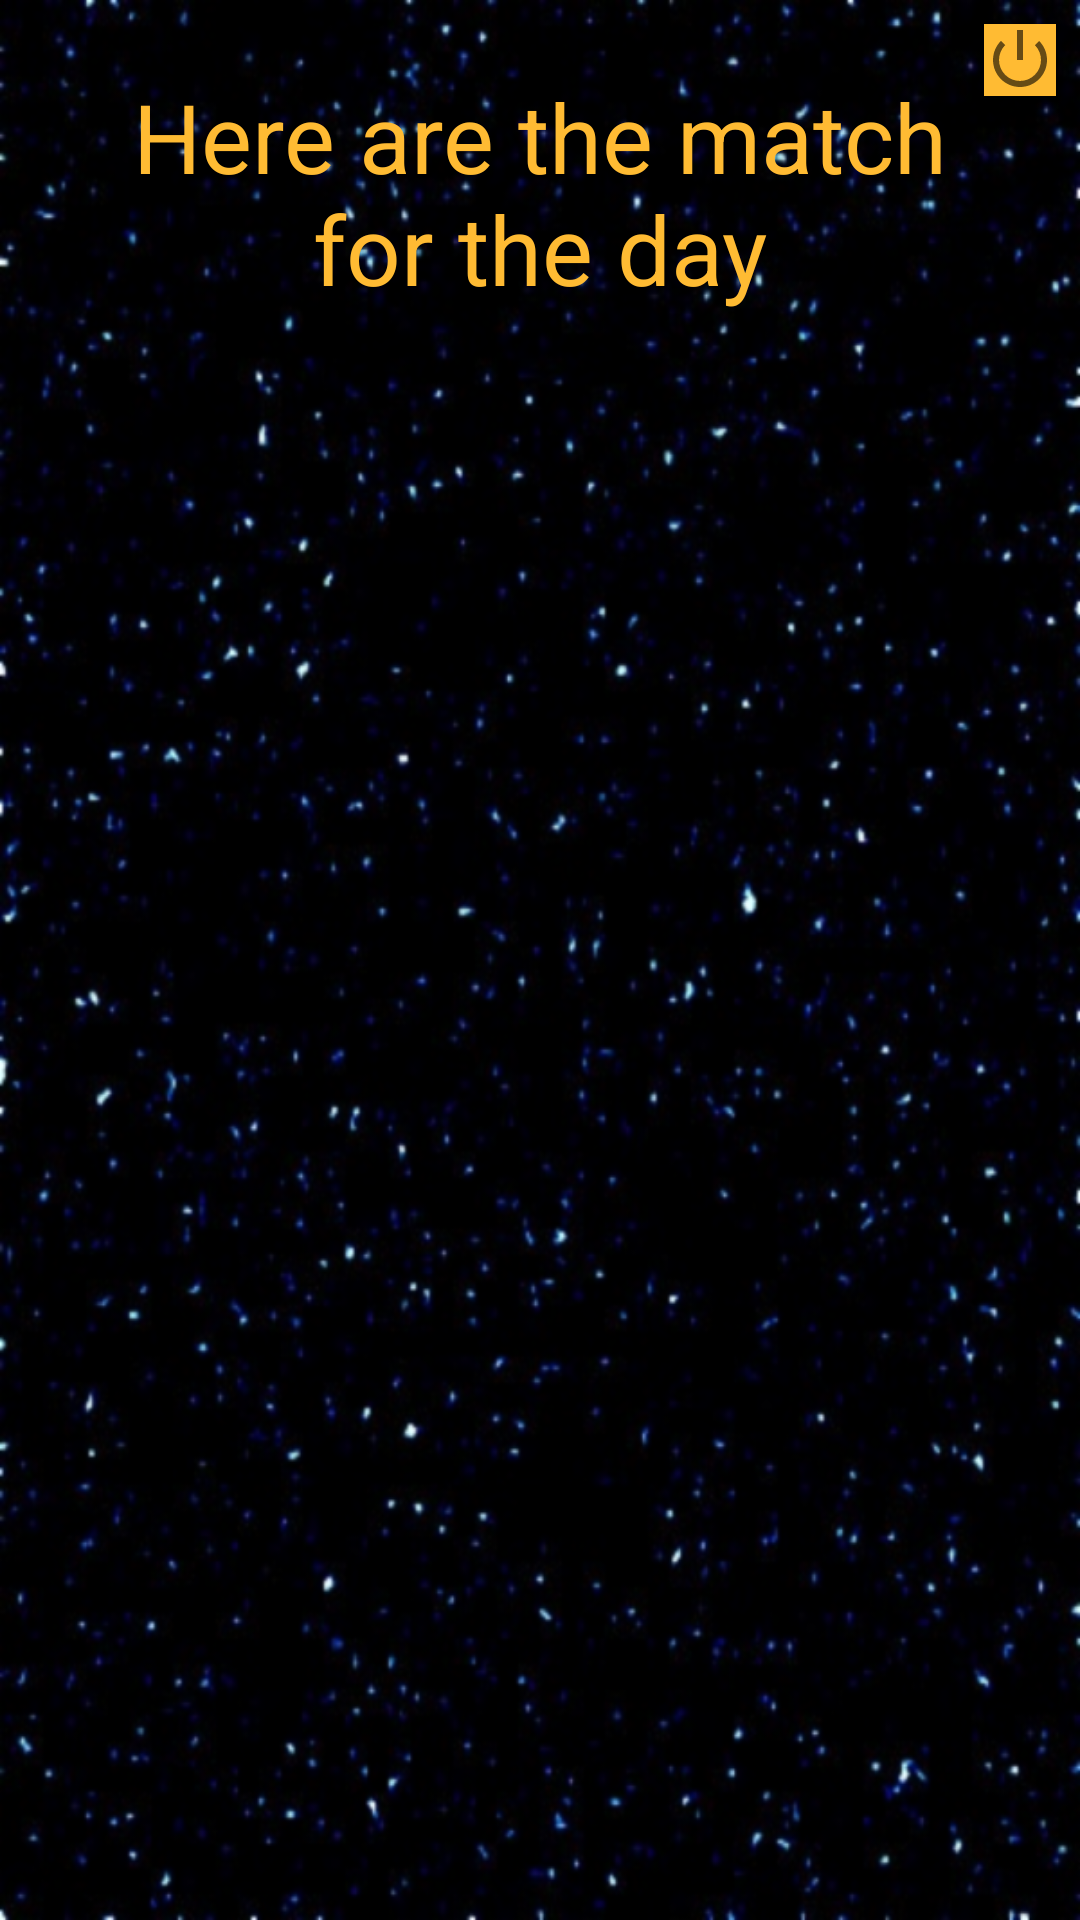

Locate icon controls on the screen. Image size 1080*1920, boxes as [x1=x1, y1=y1, x2=x2, y2=y2].
lock power off: [x1=984, y1=24, x2=1056, y2=96]
